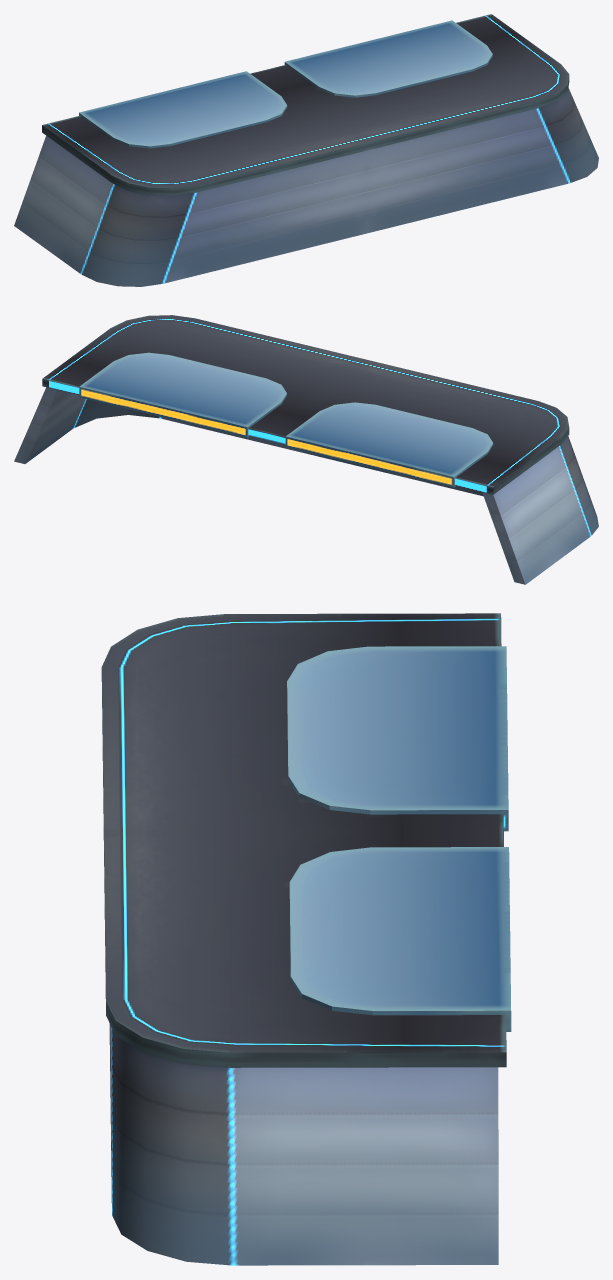
The model's file is Mesa_Microscopio.fbx.
The picture shows the model from 3 angles, top to bottom: view 1: azimuth 30°, elevation 25°; view 2: azimuth 150°, elevation 25°; view 3: azimuth 270°, elevation 25°; orthographic projection. The views are drawn at different scales.
Parts seen in each view (by area): view 1: Mesa_Microscopio; view 2: Mesa_Microscopio; view 3: Mesa_Microscopio.
Boxes of the visible parts, x1=… form: Mesa_Microscopio: x1=14, y1=14, x2=598, y2=286; Mesa_Microscopio: x1=14, y1=315, x2=598, y2=584; Mesa_Microscopio: x1=101, y1=613, x2=511, y2=1265.
Bounding box in the file's own units: 484 × 84.85 × 168.
